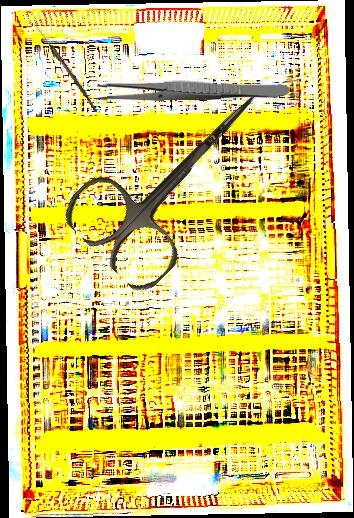Dressing Forceps: (95, 78, 290, 102)
Iris Scissors: (56, 54, 300, 299)
Surgical Spoon: (32, 22, 100, 113)
